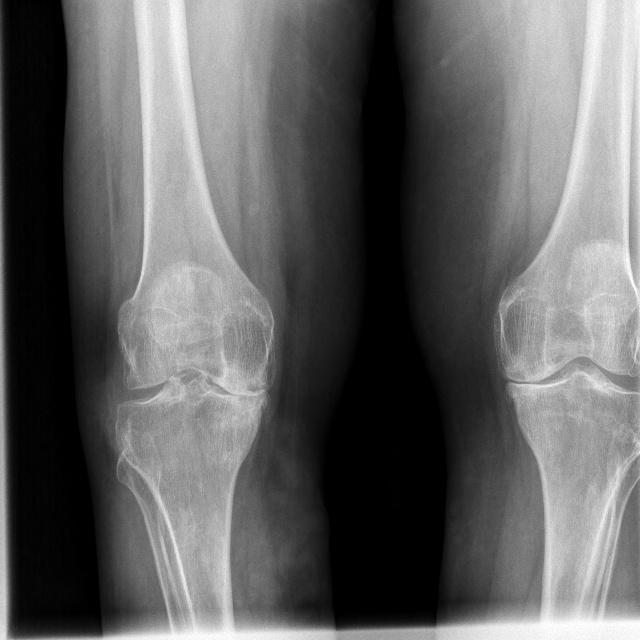Knee: (108, 308, 274, 450), (494, 309, 638, 440)
